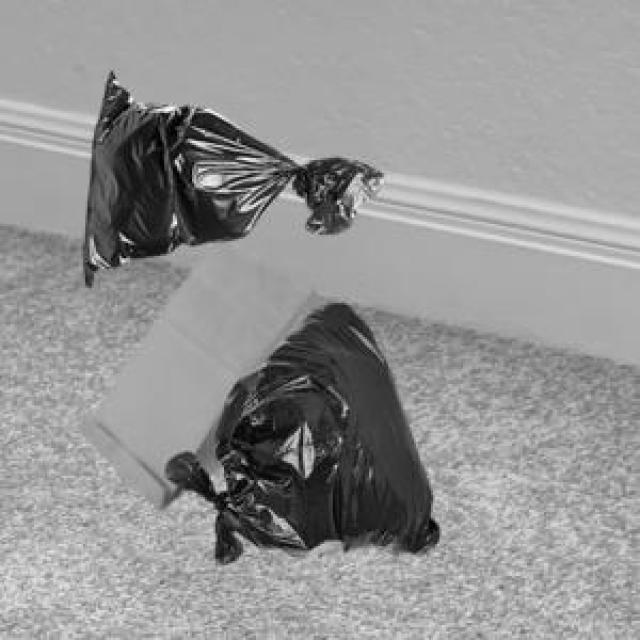miscellaneous trash: (162, 299, 435, 561), (81, 68, 380, 284)
paper: (77, 235, 320, 506)
